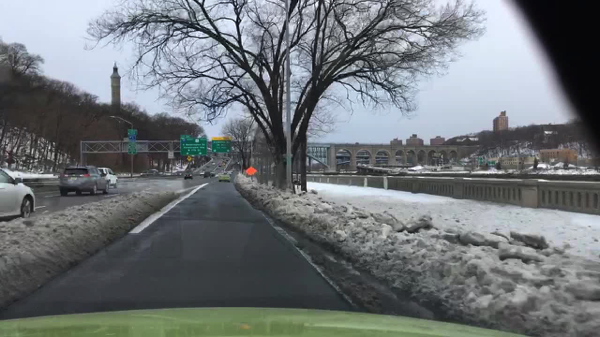car: (0, 166, 36, 220), (59, 164, 111, 196), (96, 167, 119, 188), (218, 171, 231, 181), (147, 169, 159, 176), (184, 172, 193, 179), (140, 170, 148, 177), (204, 170, 212, 177), (163, 172, 171, 176), (224, 157, 229, 163), (199, 169, 203, 176), (175, 172, 181, 176), (212, 170, 216, 176), (222, 159, 226, 163), (229, 170, 234, 173)
traffic sign: (181, 138, 208, 155), (123, 138, 150, 152), (210, 141, 233, 153), (244, 167, 258, 176), (281, 153, 293, 163), (211, 137, 232, 141), (128, 128, 138, 136), (167, 150, 175, 159), (128, 147, 137, 154), (179, 134, 191, 139), (128, 141, 136, 147), (128, 137, 137, 142), (186, 155, 191, 162)
